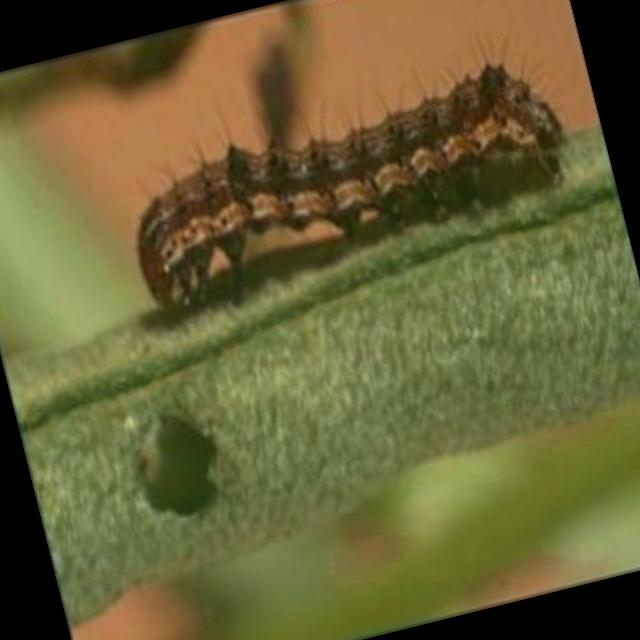Cotton bollworm: (75, 15, 611, 346)
